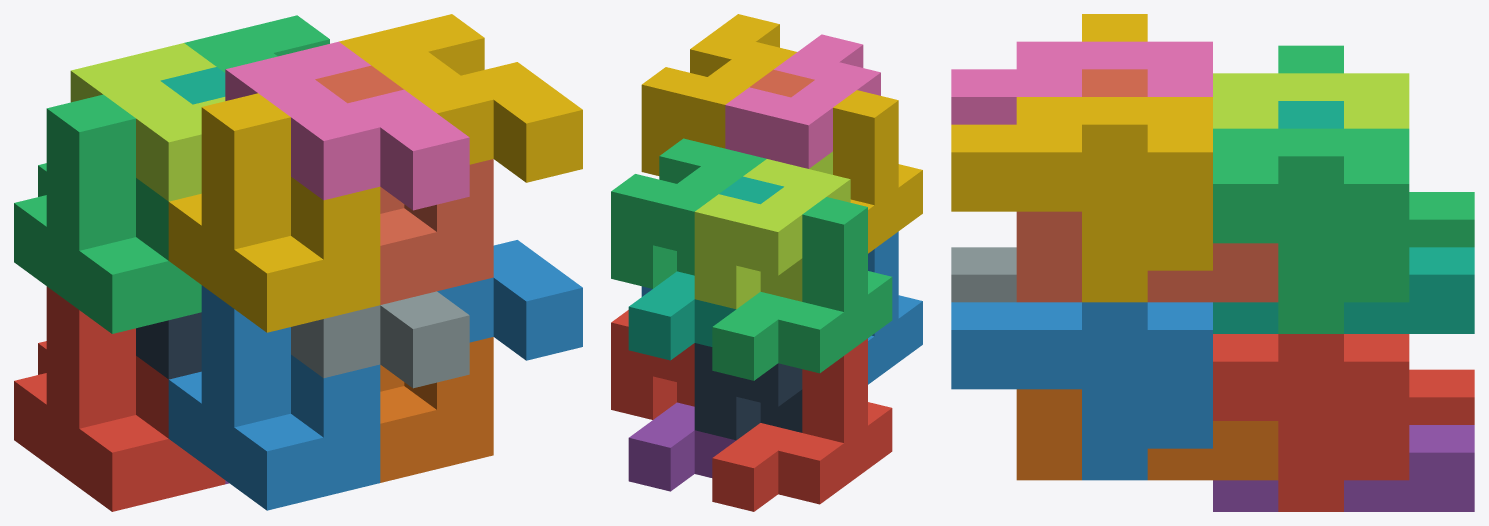
File: tiling.obj
The picture shows the model from 3 angles, left to right: view 1: azimuth 30°, elevation 25°; view 2: azimuth 150°, elevation 25°; view 3: azimuth 270°, elevation 25°; orthographic projection. The views are drawn at different scales.
Visible parts, largest first — view 1: copy_1_domain_4, copy_1_domain_2, copy_1_domain_3, copy_1_domain_1, copy_2_domain_4, copy_2_domain_8, copy_1_domain_8, copy_2_domain_2, copy_2_domain_3, copy_1_domain_6, copy_2_domain_6, copy_2_domain_7 (+2 smaller); view 2: copy_1_domain_3, copy_1_domain_1, copy_2_domain_3, copy_2_domain_7, copy_2_domain_8, copy_2_domain_4, copy_1_domain_4, copy_2_domain_1, copy_1_domain_7, copy_1_domain_5, copy_2_domain_5, copy_1_domain_2 (+1 smaller); view 3: copy_2_domain_8, copy_2_domain_6, copy_2_domain_7, copy_2_domain_5, copy_1_domain_8, copy_2_domain_4, copy_1_domain_6, copy_1_domain_7, copy_1_domain_5, copy_2_domain_3, copy_1_domain_3, copy_1_domain_1 (+2 smaller).
Boxes of the visible parts, <box> form: copy_1_domain_4: <box>168,93,380,332</box>; copy_1_domain_2: <box>168,285,380,510</box>; copy_1_domain_3: <box>14,94,201,333</box>; copy_1_domain_1: <box>14,286,225,511</box>; copy_2_domain_4: <box>225,41,469,210</box>; copy_2_domain_8: <box>339,14,582,182</box>; copy_1_domain_8: <box>315,65,493,304</box>; copy_2_domain_2: <box>291,291,469,388</box>; copy_2_domain_3: <box>70,43,225,201</box>; copy_1_domain_6: <box>380,337,493,482</box>; copy_2_domain_6: <box>437,240,582,360</box>; copy_2_domain_7: <box>184,15,329,72</box>; copy_1_domain_3: <box>712,197,892,380</box>; copy_1_domain_1: <box>712,338,892,511</box>; copy_2_domain_3: <box>694,151,850,309</box>; copy_2_domain_7: <box>611,138,766,288</box>; copy_2_domain_8: <box>641,14,796,175</box>; copy_2_domain_4: <box>725,34,880,168</box>; copy_1_domain_4: <box>833,90,922,253</box>; copy_2_domain_1: <box>694,343,802,440</box>; copy_1_domain_7: <box>628,176,783,360</box>; copy_1_domain_5: <box>628,402,735,491</box>; copy_2_domain_5: <box>611,310,694,419</box>; copy_1_domain_2: <box>868,231,922,384</box>; copy_2_domain_8: <box>951,97,1212,302</box>; copy_2_domain_6: <box>951,302,1212,480</box>; copy_2_domain_7: <box>1213,128,1409,333</box>; copy_2_domain_5: <box>1213,334,1409,511</box>; copy_1_domain_8: <box>1016,69,1278,302</box>; copy_2_domain_4: <box>951,41,1212,124</box>; copy_1_domain_6: <box>1016,389,1278,480</box>; copy_1_domain_7: <box>1213,101,1474,333</box>; copy_1_domain_5: <box>1213,425,1474,511</box>; copy_2_domain_3: <box>1213,73,1409,128</box>; copy_1_domain_3: <box>1278,45,1474,247</box>; copy_1_domain_1: <box>1409,369,1474,424</box>.
Bounding box in the file's own units: 6 × 7 × 8.
